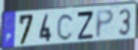3: (118, 8, 132, 37)
4: (38, 13, 53, 43)
7: (18, 14, 35, 47)
C: (56, 13, 75, 42)
P: (95, 8, 115, 40)
Z: (76, 10, 94, 41)
